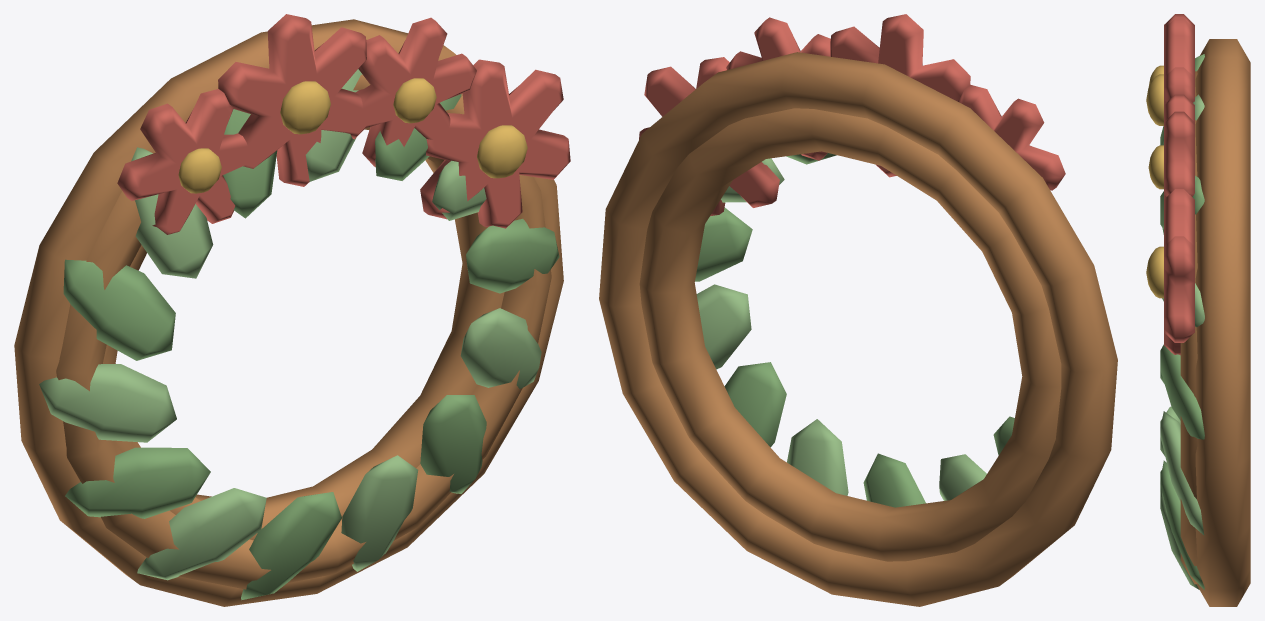
File: dark_lily_wreath.glb
3 views of the same model, side by side, from view 1: azimuth 30°, elevation 25°; view 2: azimuth 150°, elevation 25°; view 3: azimuth 270°, elevation 25° (orthographic). The views are drawn at different scales.
Visible parts, largest first — view 1: dark_lily_wreath_mesh; view 2: dark_lily_wreath_mesh; view 3: dark_lily_wreath_mesh.
Part boxes in pixels (x1,y1,x2,y2): dark_lily_wreath_mesh: (14,14,570,606); dark_lily_wreath_mesh: (599,14,1117,606); dark_lily_wreath_mesh: (1146,14,1250,606).
Bounding box in the file's own units: 0.4519 × 0.4856 × 0.0836.
